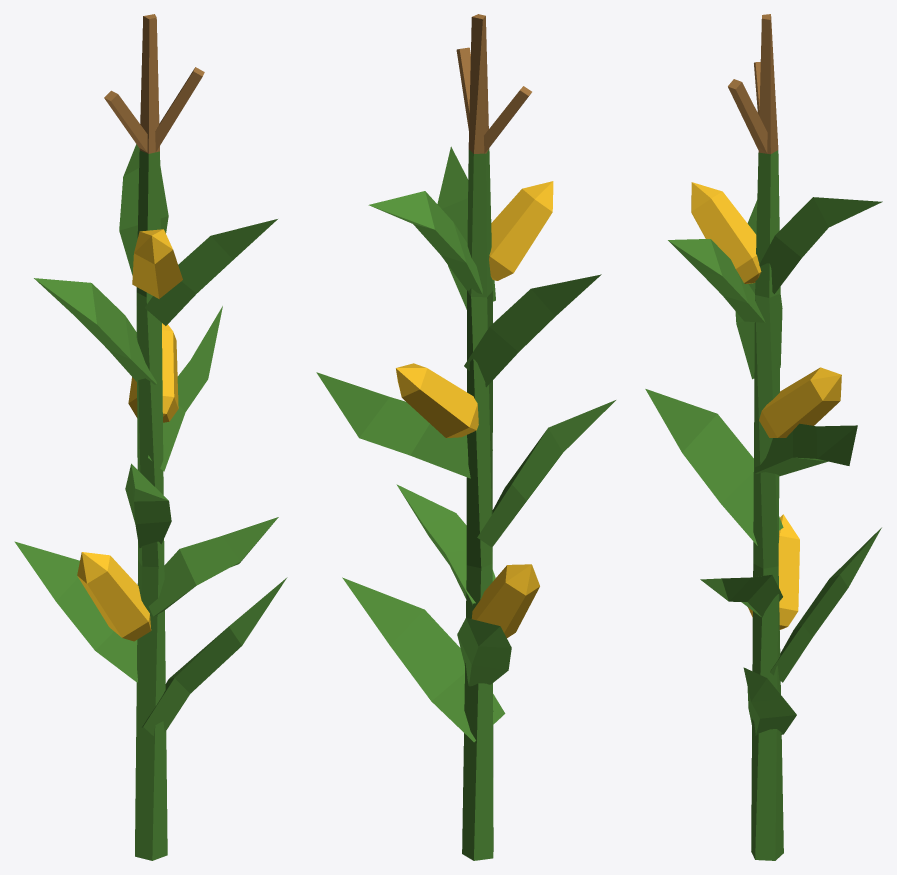
Rendered from nature-corn-plant.glb.
The picture shows the model from 3 angles, left to right: view 1: azimuth 30°, elevation 25°; view 2: azimuth 150°, elevation 25°; view 3: azimuth 270°, elevation 25°; orthographic projection.
Parts seen in each view (by area): view 1: corn-plant; view 2: corn-plant; view 3: corn-plant.
Boxes of the visible parts, box(x1,y1,x2,y2) form: corn-plant: box(14, 14, 287, 860); corn-plant: box(316, 14, 615, 860); corn-plant: box(645, 14, 882, 860).
Bounding box in the file's own units: 0.7377 × 2.3 × 0.591.
